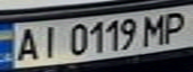0: (66, 20, 90, 56)
1: (103, 17, 124, 52), (87, 19, 106, 54)
9: (118, 15, 142, 51)
A: (9, 25, 42, 62)
I: (33, 22, 63, 60)
M: (139, 11, 172, 46)
P: (157, 8, 193, 43)
